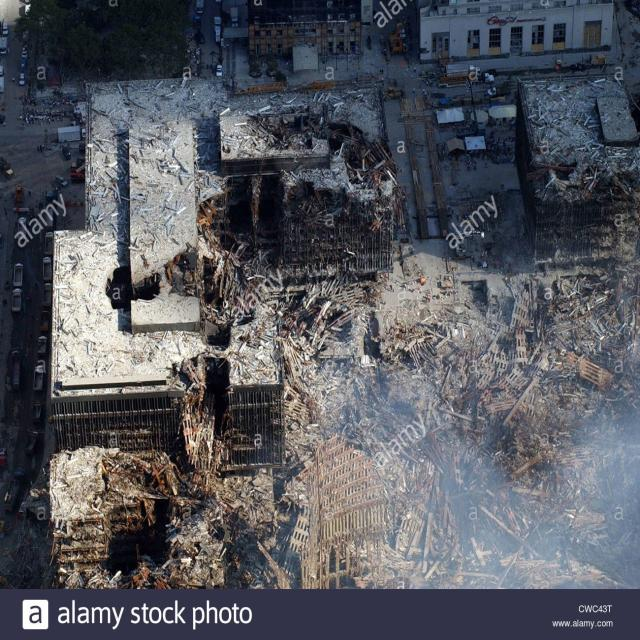collapsed_building: (86, 85, 392, 452), (416, 272, 634, 604), (56, 448, 397, 608), (520, 80, 640, 264)
